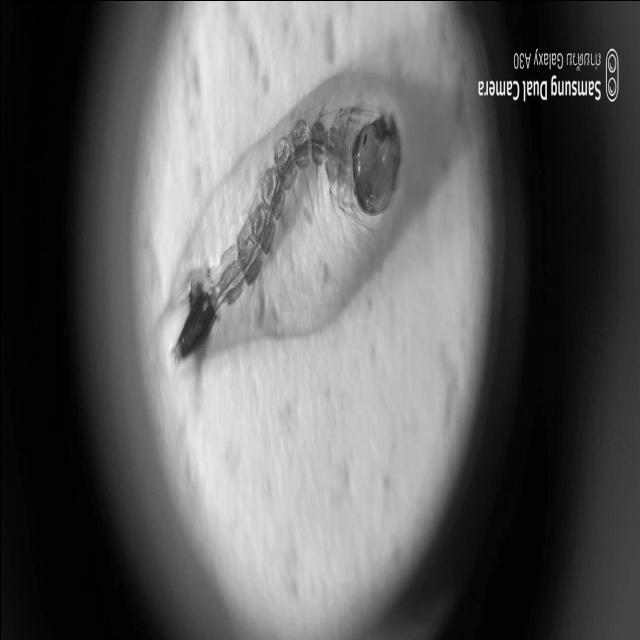larvas: (172, 103, 406, 360)
